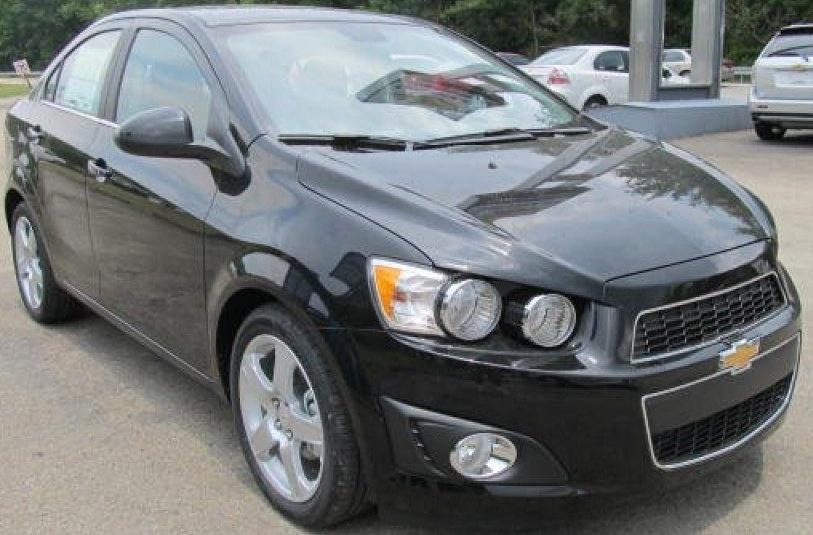front_view: (334, 203, 806, 516)
headlight: (361, 245, 605, 368)
side_glass: (48, 21, 216, 169)
